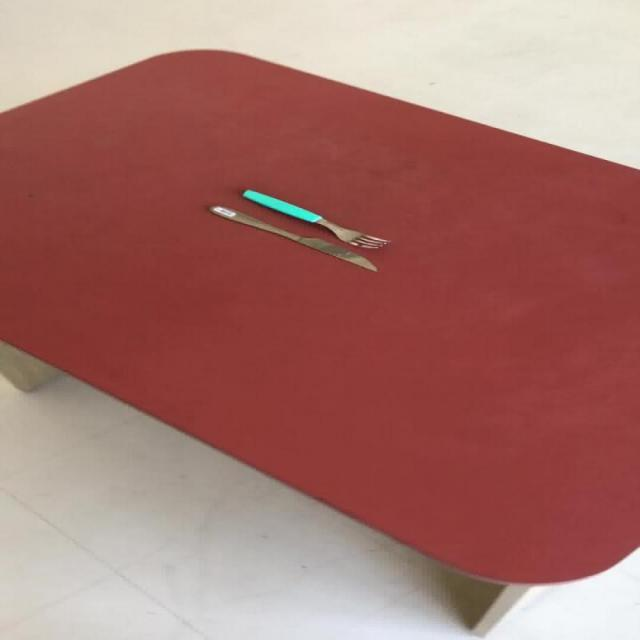Fork: (238, 188, 389, 249)
Knife: (207, 205, 377, 272)
